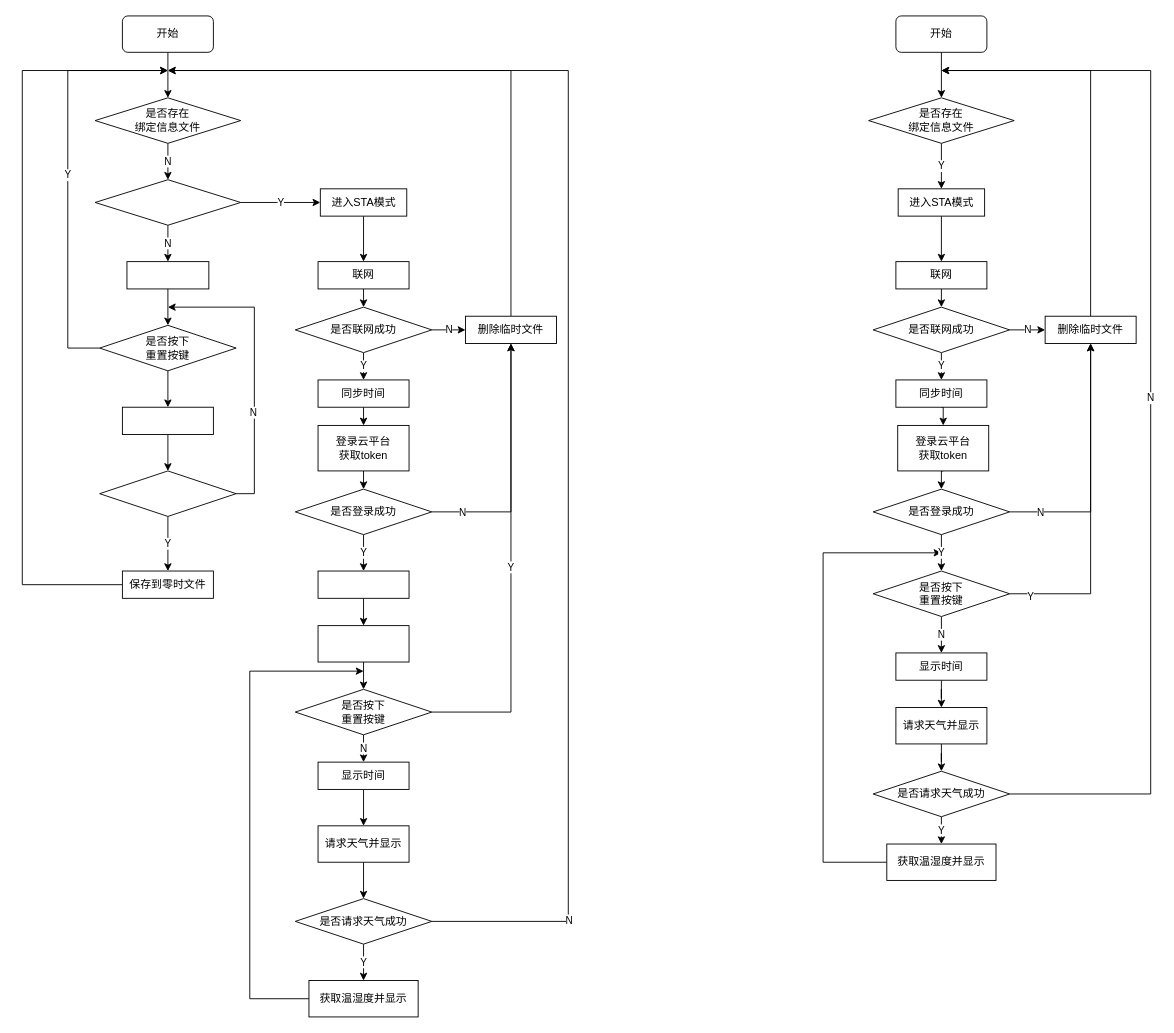
This 1174x1033 diagram has some shape labels left out. Here are the shapes that lost their labels. From the top down, the box of each, then its label:
(94, 179, 241, 225): 是否存在临时 绑定信息文件
(126, 261, 209, 289): 进入AP模式
(121, 406, 213, 435): 接受http请求
(99, 470, 236, 516): 是否收到 绑定信息
(317, 570, 409, 598): 绑定云平台
(317, 625, 409, 662): 保存绑定信息 删除临时文件
